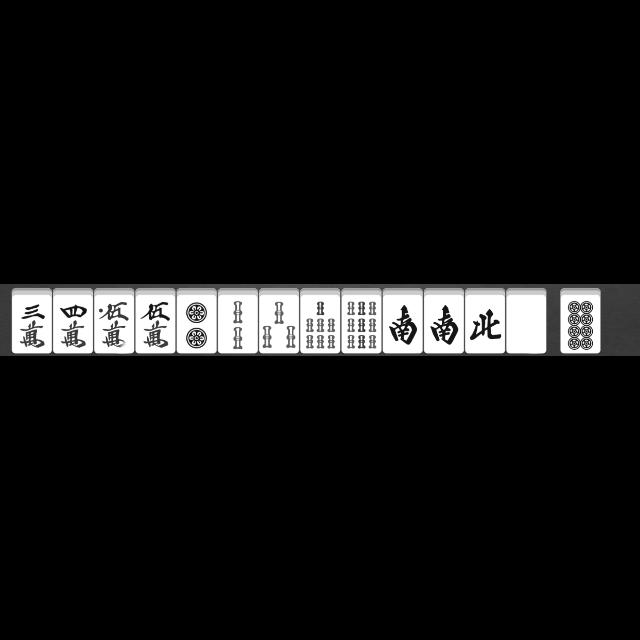2p: (177, 288, 217, 354)
2s: (218, 288, 258, 354)
3m: (12, 288, 52, 354)
3s: (260, 288, 298, 352)
4m: (53, 288, 93, 356)
5m: (94, 288, 134, 356), (135, 288, 175, 354)
7s: (300, 288, 340, 354)
8p: (560, 289, 600, 353)
9s: (342, 289, 381, 355)
haku: (507, 288, 547, 354)
nan: (383, 288, 423, 356), (424, 289, 464, 355)
sha: (465, 288, 505, 354)
